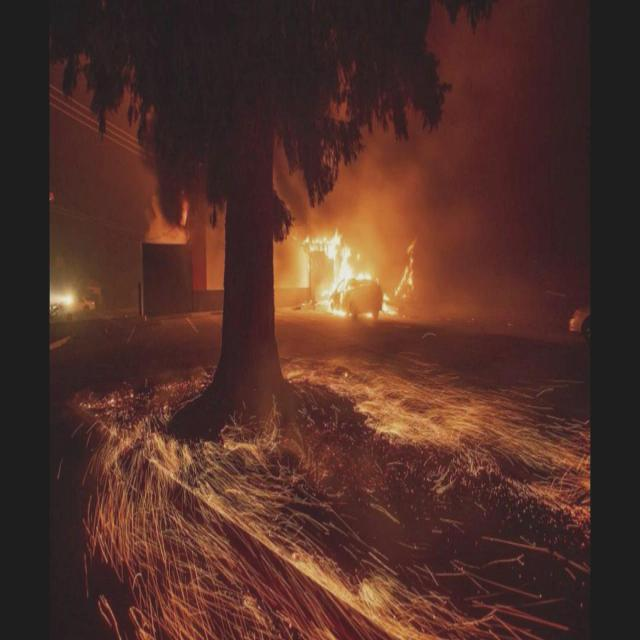Fire: (318, 230, 352, 310), (394, 242, 419, 298), (354, 272, 374, 282), (382, 292, 390, 312)
